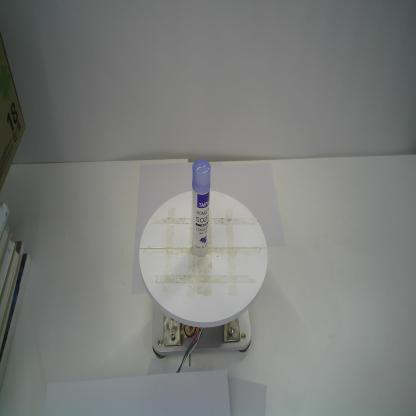Stationery: (192, 159, 211, 257)
